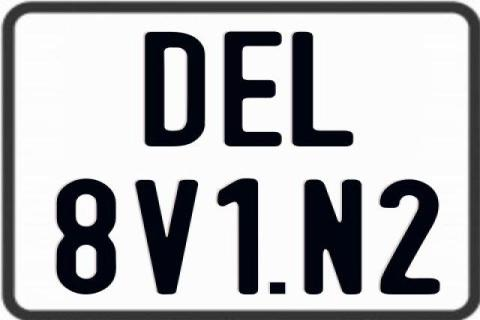0: (55, 176, 119, 295), (378, 178, 441, 298), (214, 176, 258, 294)
D: (142, 32, 202, 149)
E: (224, 32, 285, 152)
L: (290, 31, 356, 149)
N: (301, 177, 362, 293)
V: (134, 180, 198, 298)
